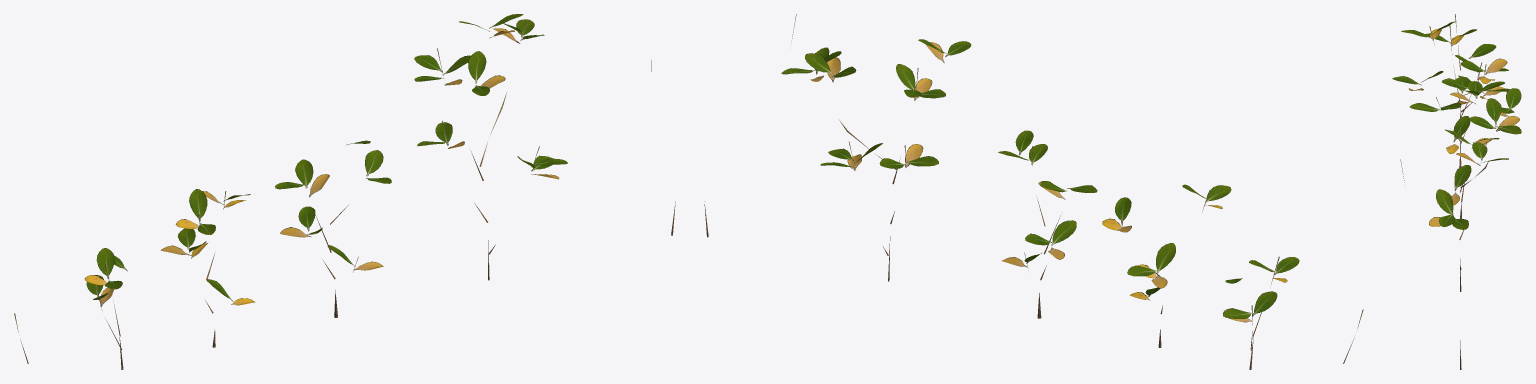
File: periwinkle_plant_lo.glb
3 renders of one model, left to right at view 1: azimuth 30°, elevation 25°; view 2: azimuth 150°, elevation 25°; view 3: azimuth 270°, elevation 25°, orthographic. The views are drawn at different scales.
Parts seen in each view (by area): view 1: periwinkle_plant_02_LOD0, periwinkle_plant_03_LOD0, periwinkle_plant_04_LOD0, periwinkle_plant_05_LOD0; view 2: periwinkle_plant_02_LOD0, periwinkle_plant_03_LOD0, periwinkle_plant_04_LOD0, periwinkle_plant_05_LOD0; view 3: periwinkle_plant_02_LOD0, periwinkle_plant_04_LOD0, periwinkle_plant_03_LOD0, periwinkle_plant_05_LOD0.
Boxes of the visible parts, x1,y1,x2,y2 form: periwinkle_plant_02_LOD0: (414, 14, 567, 280); periwinkle_plant_03_LOD0: (275, 140, 391, 317); periwinkle_plant_04_LOD0: (161, 189, 254, 347); periwinkle_plant_05_LOD0: (84, 248, 127, 369); periwinkle_plant_02_LOD0: (781, 39, 971, 281); periwinkle_plant_03_LOD0: (998, 130, 1097, 318); periwinkle_plant_04_LOD0: (1102, 184, 1231, 347); periwinkle_plant_05_LOD0: (1223, 256, 1299, 369); periwinkle_plant_02_LOD0: (1392, 70, 1521, 291); periwinkle_plant_04_LOD0: (1401, 21, 1509, 167); periwinkle_plant_03_LOD0: (1410, 77, 1499, 218); periwinkle_plant_05_LOD0: (1425, 25, 1508, 118).
Size of the model in its own units: 1.09 by 0.3777 by 0.2105.
Materials: 1 (1 with a texture image).
